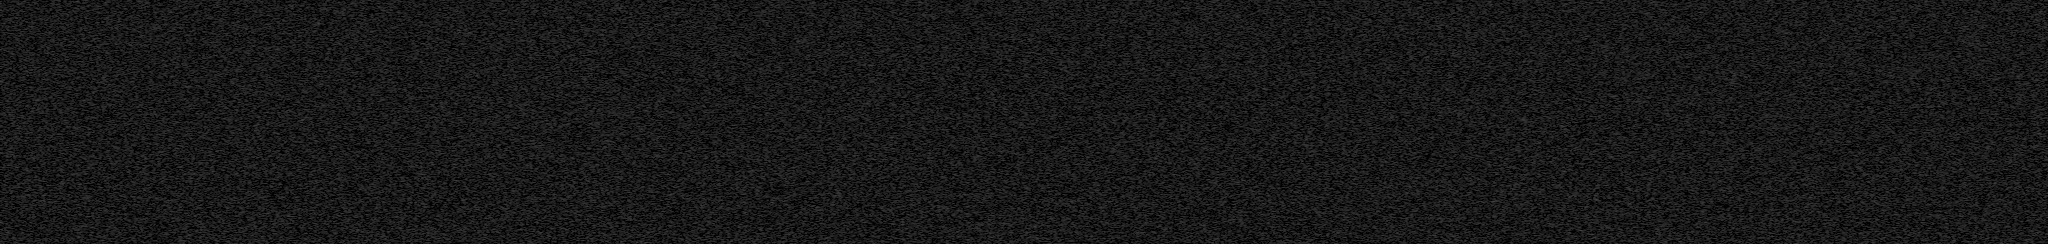wv_am: (217, 0, 222, 123), (217, 192, 222, 244), (217, 174, 222, 191), (217, 157, 222, 174), (217, 132, 222, 141), (217, 147, 222, 155), (217, 123, 222, 127), (217, 142, 222, 145), (217, 128, 222, 130)
wv_cw: (285, 0, 291, 244), (820, 0, 825, 244), (1903, 0, 1908, 244)
wv_lsb: (1869, 1, 1876, 140), (1870, 141, 1876, 197), (1870, 202, 1876, 244)
wv_usb: (801, 0, 807, 97), (802, 119, 807, 175), (801, 184, 807, 222), (801, 97, 806, 117), (802, 223, 807, 237), (801, 237, 808, 244), (802, 176, 806, 183)
wv_wbfm: (1532, 0, 1691, 244), (846, 0, 976, 244), (844, 151, 856, 154)
